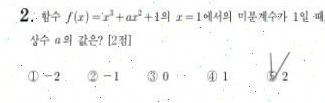choice: (265, 63, 280, 84)
not-choice: (25, 69, 40, 84), (204, 69, 219, 84), (145, 69, 159, 83), (85, 69, 99, 82)
